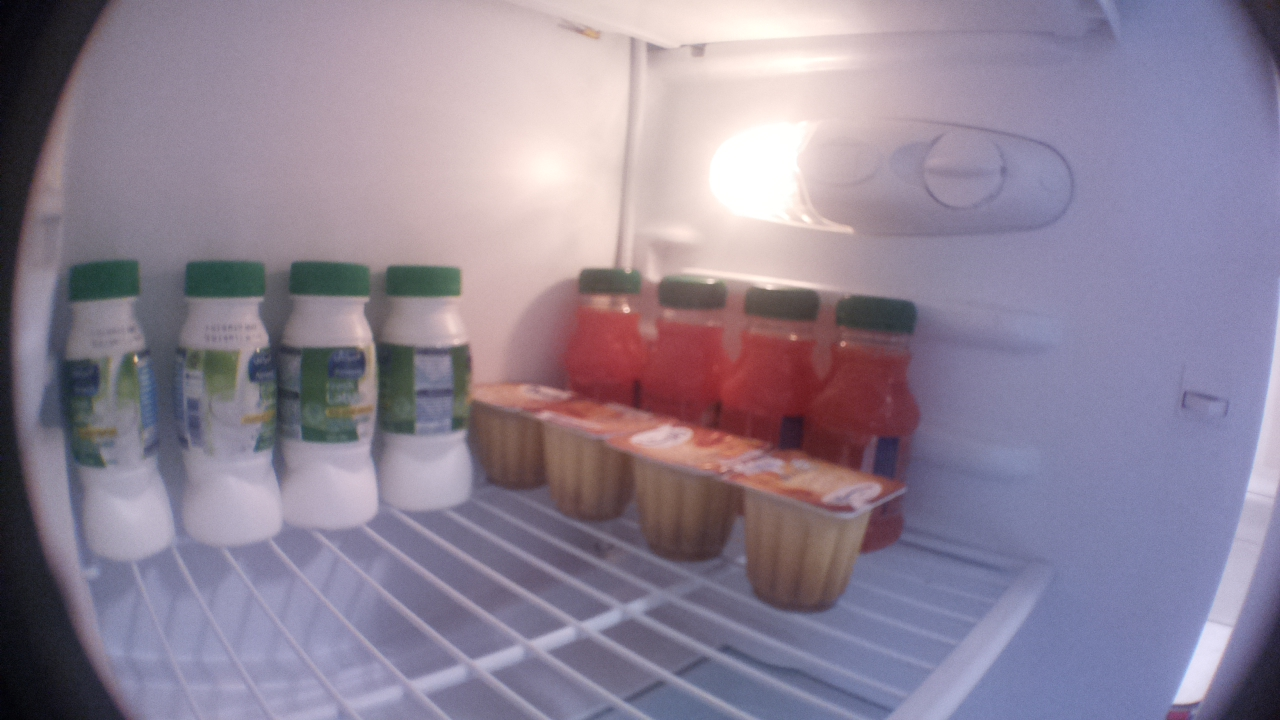caramel: (715, 445, 909, 615), (605, 423, 765, 562), (522, 395, 659, 528), (466, 375, 567, 493)
juice: (800, 294, 942, 467), (725, 279, 825, 444), (639, 272, 734, 426), (558, 263, 653, 404)
laban: (59, 252, 178, 564), (177, 257, 279, 555), (275, 254, 381, 536), (376, 258, 479, 511)
